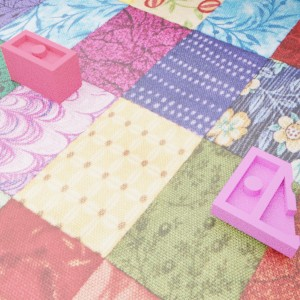lego: (210, 146, 299, 258), (0, 29, 82, 104)
